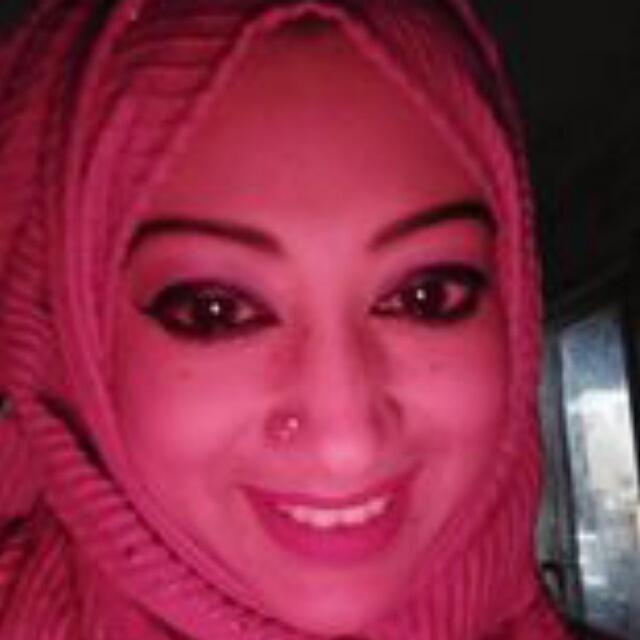Happy: (122, 159, 517, 609)
